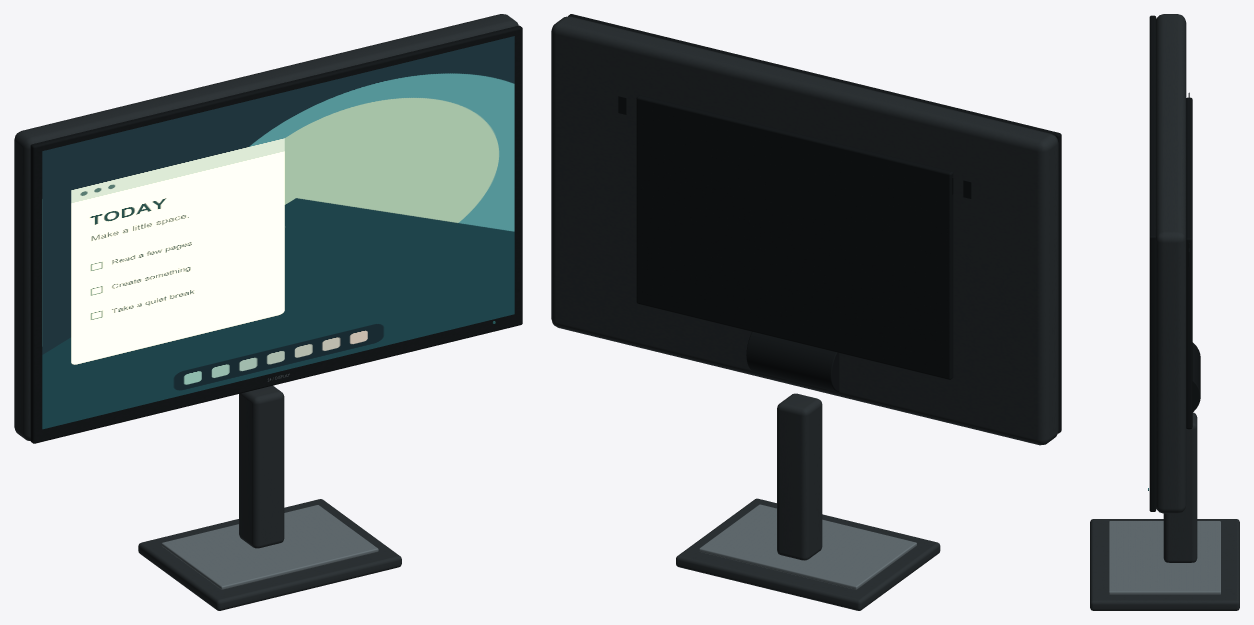
Rendered from monitor_01.glb.
The picture shows the model from 3 angles, left to right: view 1: azimuth 30°, elevation 25°; view 2: azimuth 150°, elevation 25°; view 3: azimuth 270°, elevation 25°; orthographic projection. The views are drawn at different scales.
Parts seen in each view (by area): view 1: monitor_01; view 2: monitor_01; view 3: monitor_01.
Boxes of the visible parts, x1,y1,x2,y2 form: monitor_01: (14,14,522,610); monitor_01: (551,14,1061,610); monitor_01: (1090,14,1239,610).
Bounding box in the file's own units: 0.548 × 0.51 × 0.155.
5 materials, 5 textured.
